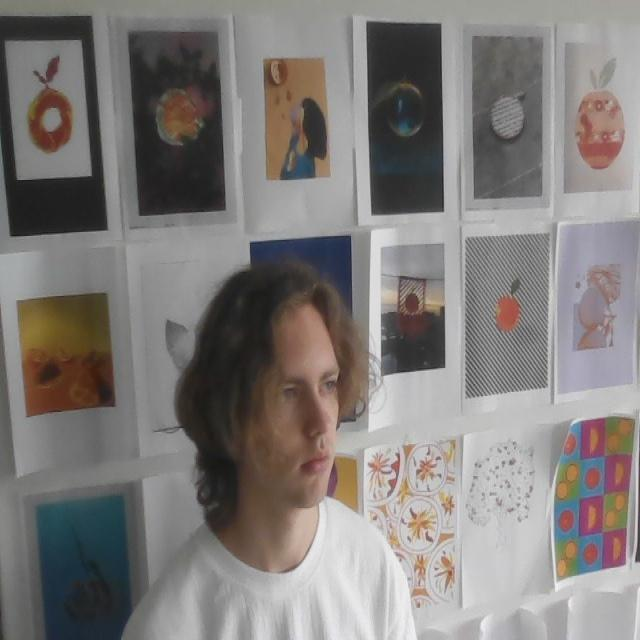opened_eye: (276, 384, 300, 402), (322, 375, 339, 400)
